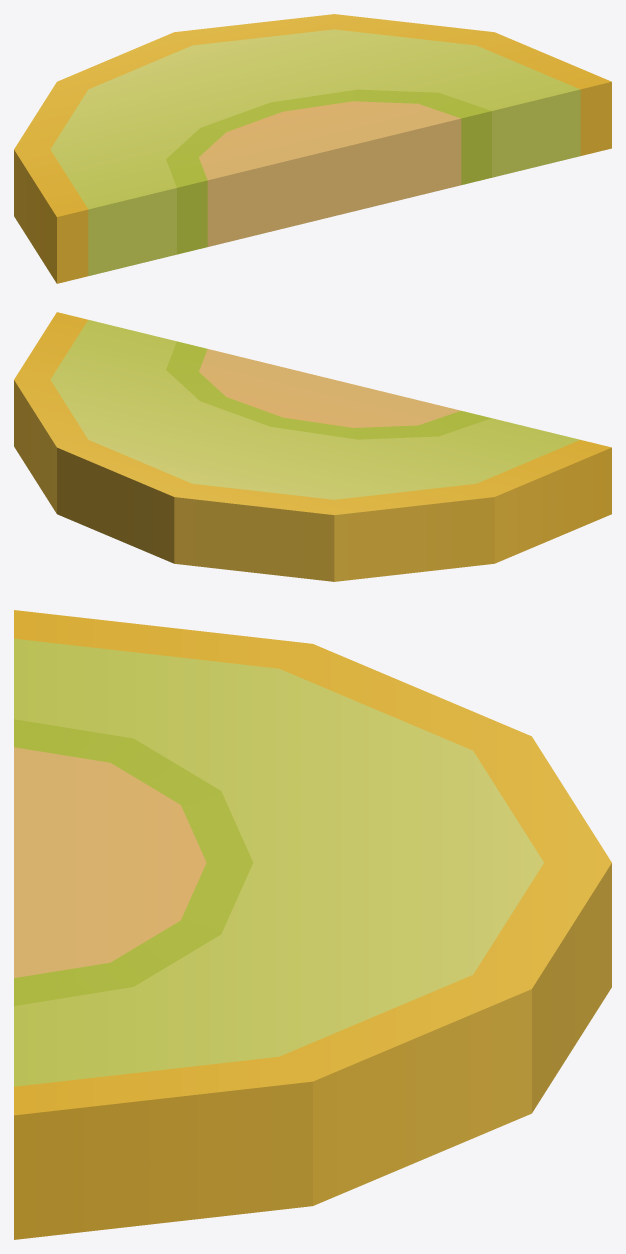
File: Melon Half Slice.fbx
3 views of the same model, one above another, from view 1: azimuth 30°, elevation 25°; view 2: azimuth 150°, elevation 25°; view 3: azimuth 270°, elevation 25° (orthographic). The views are drawn at different scales.
Visible parts, largest first — view 1: Melon Half Slice; view 2: Melon Half Slice; view 3: Melon Half Slice.
Boxes of the visible parts, x1,y1,x2,y2 form: Melon Half Slice: [14, 14, 611, 283]; Melon Half Slice: [14, 312, 611, 581]; Melon Half Slice: [14, 610, 611, 1239].
Size of the model in its own units: 19.84 by 2.28 by 9.92.
